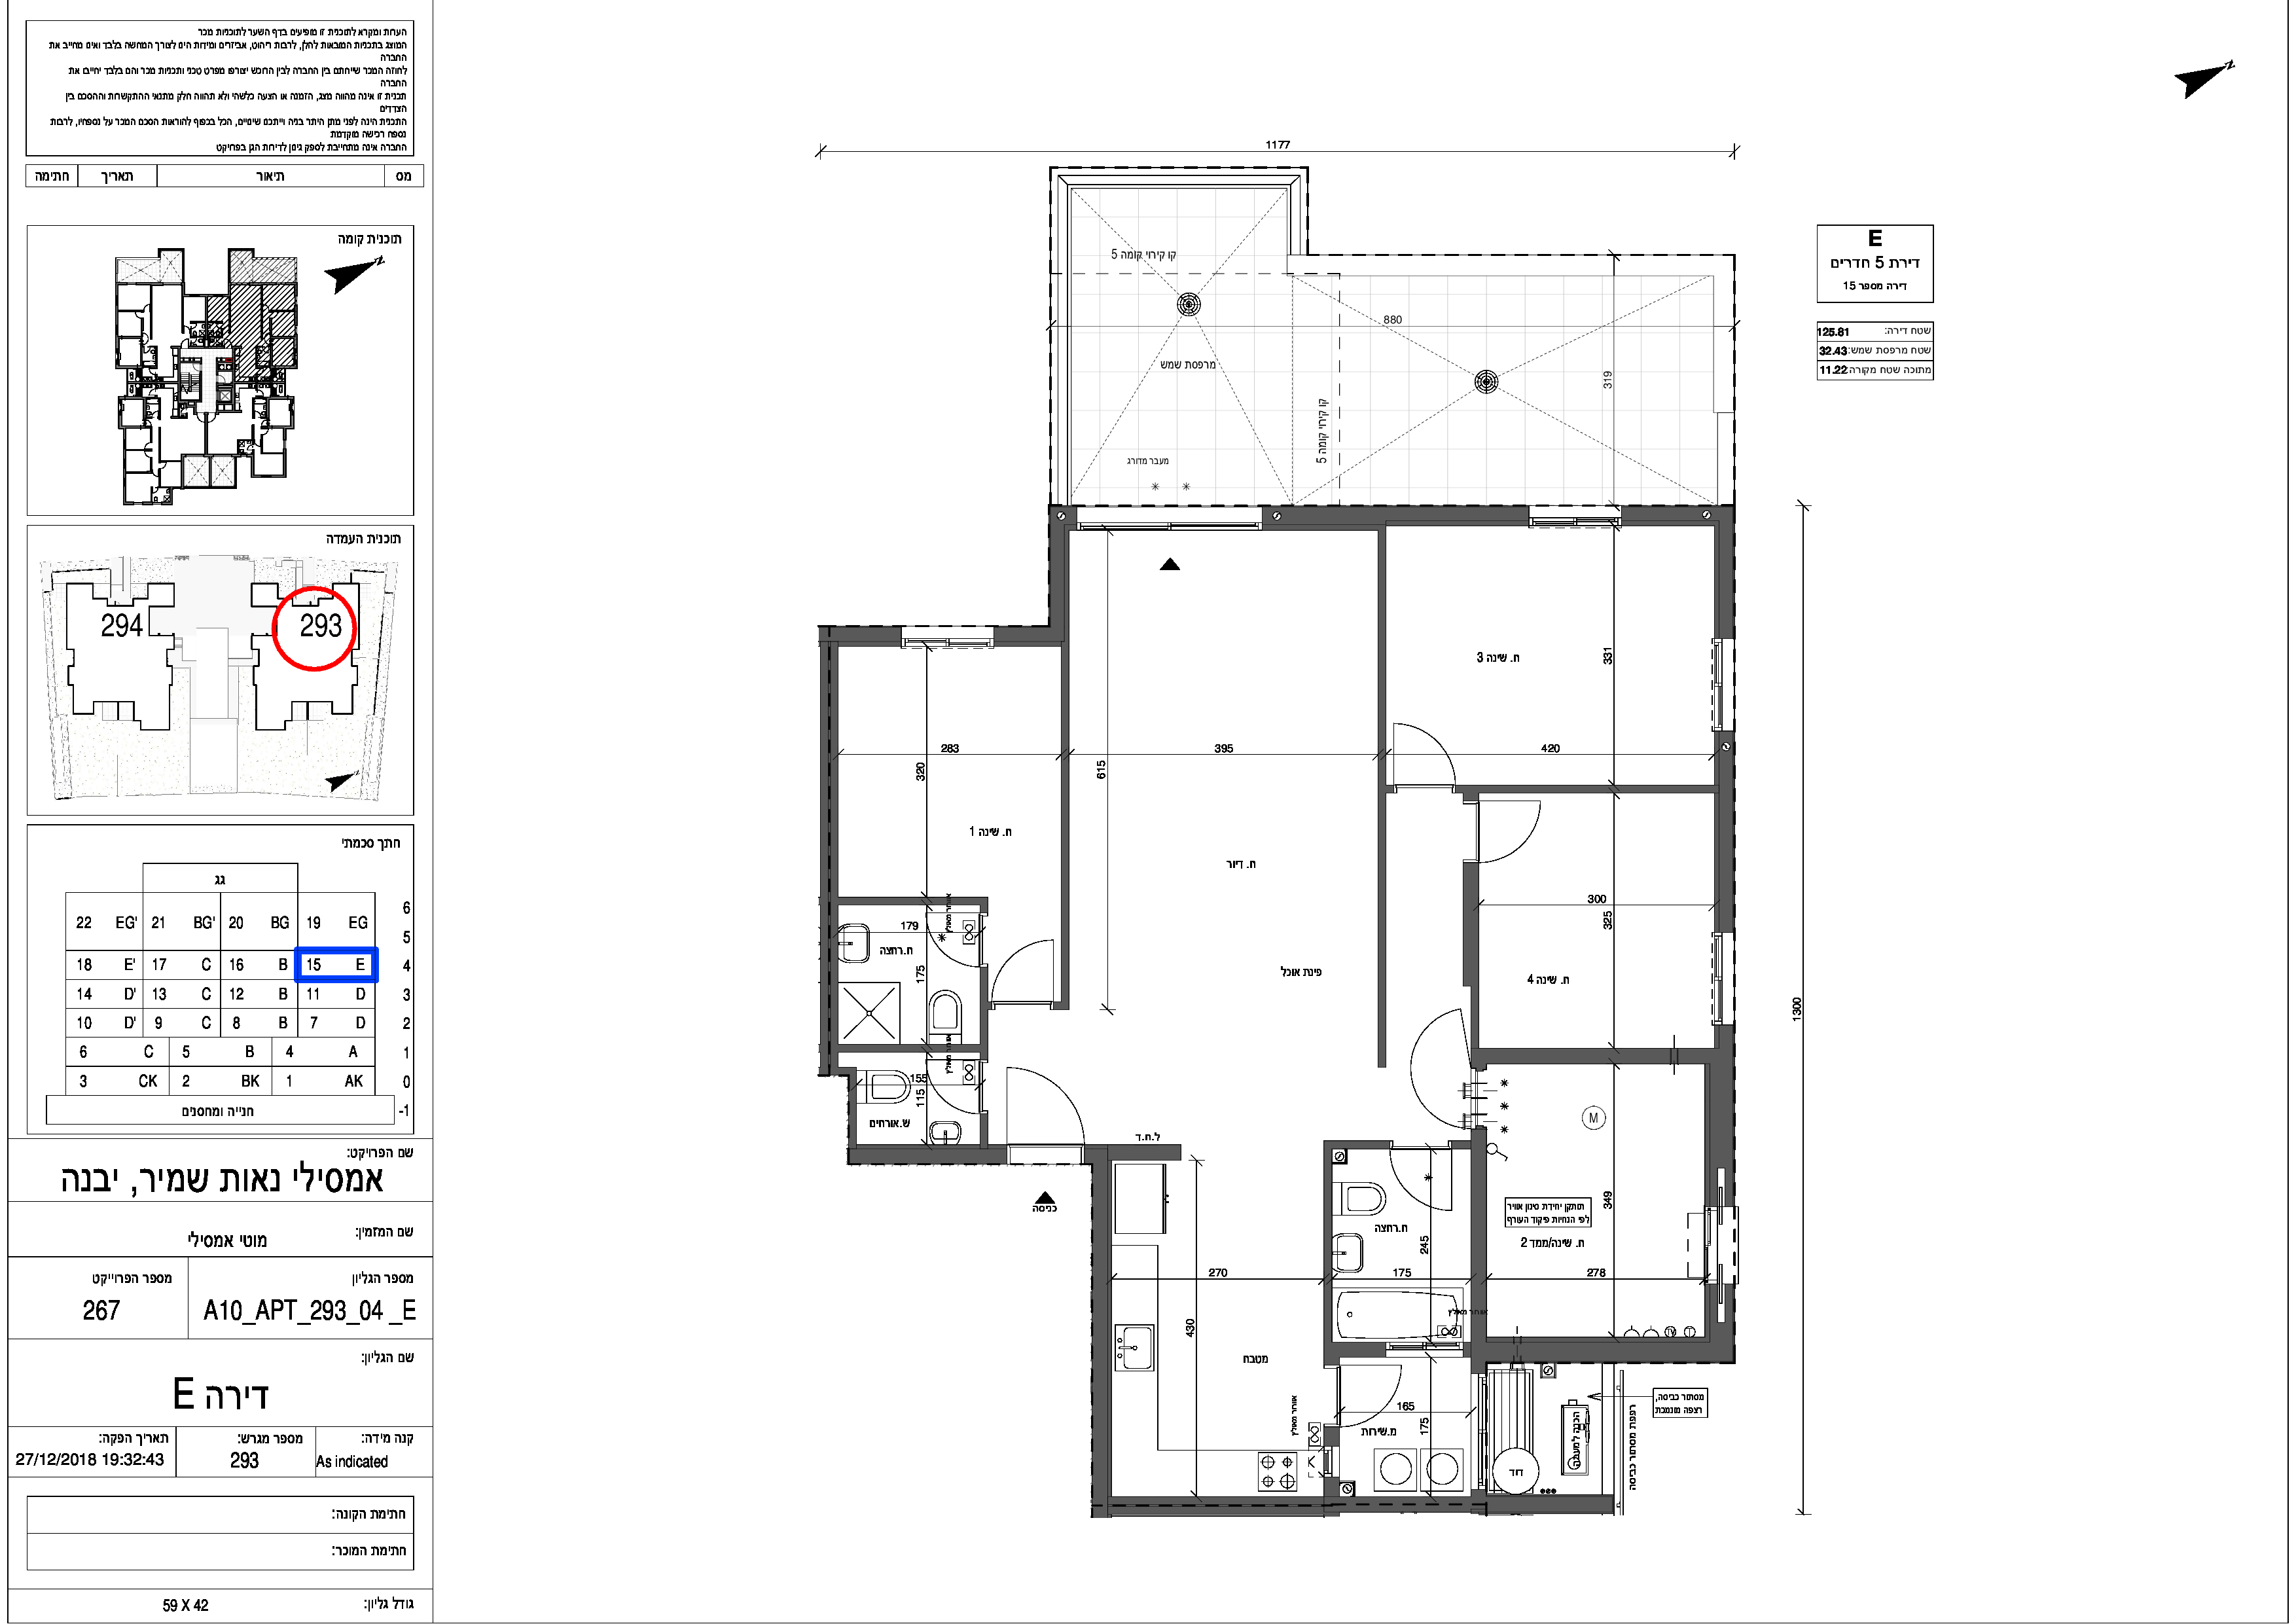door: (1000, 1051, 1086, 1137), (1388, 1156, 1463, 1227), (1404, 995, 1467, 1065), (1390, 717, 1462, 779), (989, 935, 1061, 997), (1490, 798, 1551, 866)
md: (750, 83, 1801, 1624)
rd: (11, 21, 529, 1624)
wall: (1094, 1151, 1105, 1501), (1523, 1341, 1718, 1359), (1474, 1134, 1486, 1313), (1061, 758, 1070, 1004), (1286, 510, 1520, 518), (1713, 1051, 1730, 1162), (1323, 1142, 1332, 1364), (1491, 1496, 1604, 1512), (1379, 779, 1384, 1067), (1722, 754, 1730, 916), (1463, 872, 1476, 984), (856, 1151, 1003, 1160), (1477, 1051, 1599, 1062), (1379, 540, 1386, 721), (1052, 524, 1061, 624), (1063, 643, 1068, 754), (834, 898, 922, 903), (1326, 1142, 1386, 1149)
window: (1073, 503, 1267, 538), (899, 620, 996, 657), (1525, 501, 1625, 534), (1708, 636, 1739, 735), (1708, 930, 1737, 1028), (1695, 1204, 1716, 1287), (1383, 1341, 1467, 1357)
